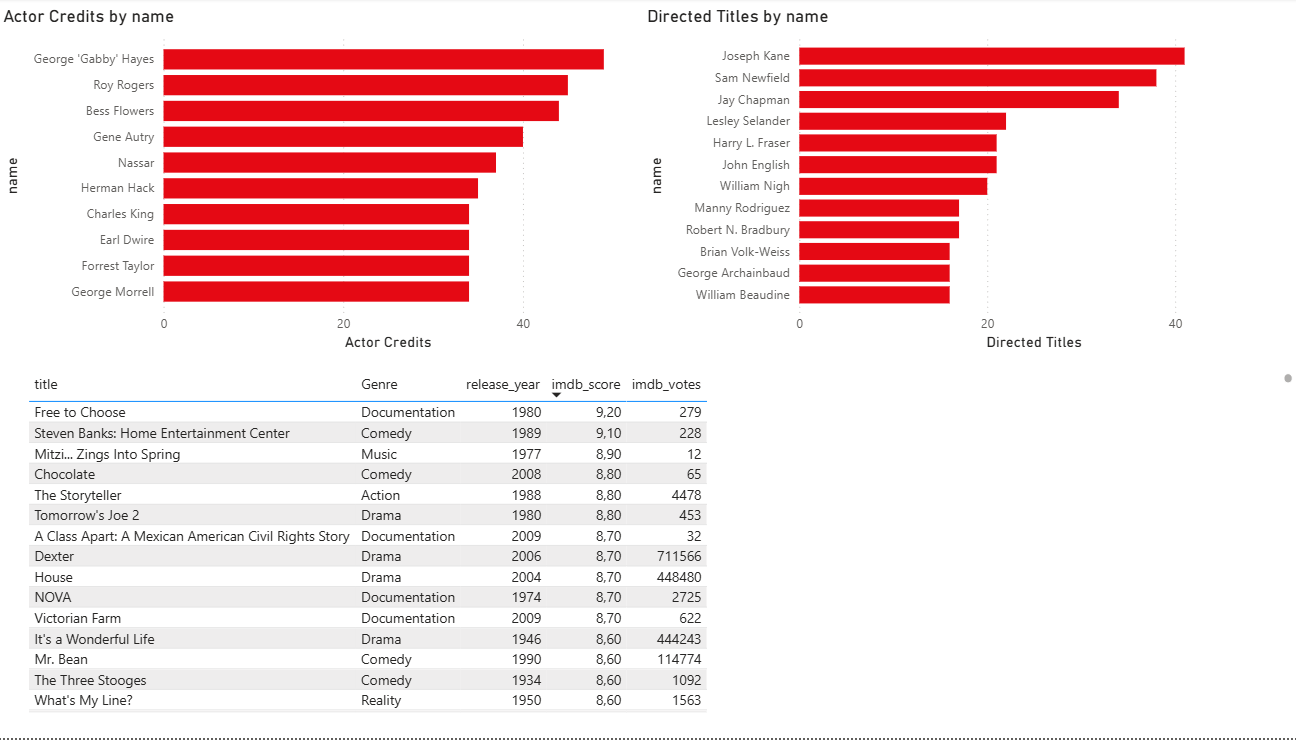

What the dashboard file says about the page in this screenshot:
{"tool":"powerbi","page":{"name":"Top Actors & Directors","canvas":[1280,720],"ordinal":1},"visuals":[{"type":"clusteredBarChart","fields":{"Category":["Actors.name"],"Y":["Actors.Actor Credits"]},"box":[16,8,610,340],"z":0},{"type":"clusteredBarChart","fields":{"Category":["Actors.name"],"Y":["Actors.Directed Titles"]},"box":[642,8,622,340],"z":1000},{"type":"tableEx","fields":{"Values":["titles.title","titles.Genre","titles.release_year","titles.imdb_score","titles.imdb_votes"]},"box":[39.9,359.9,1240.1,340.4],"z":2000}]}

Visuals, with their boxes in screenshot pixels (x1, y1, x2, y2), scaled from the page's 1280x720 canvas onto the 1296x746 screenshot:
clusteredBarChart - Actors.name x Actors.Actor Credits: Rect(16, 8, 634, 361)
clusteredBarChart - Actors.name x Actors.Directed Titles: Rect(650, 8, 1280, 361)
tableEx - titles.title x titles.Genre: Rect(40, 373, 1295, 726)
